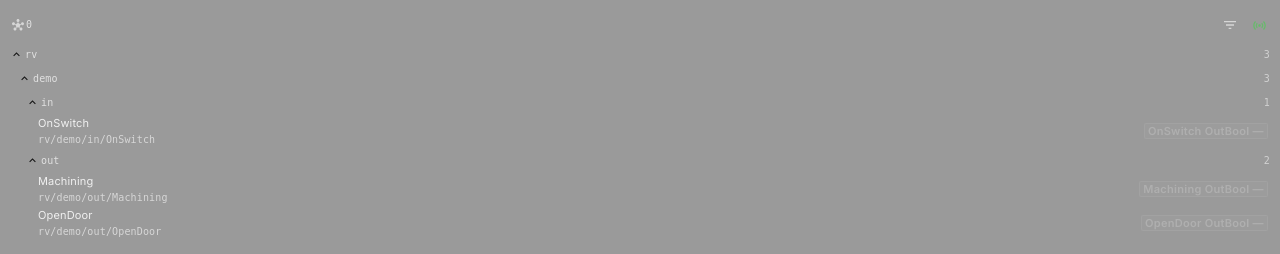
Test: SignalListView MQTT topic tree › collapses a single level without touching its siblings
Expected: the text "OpenDoor" is shown, [38,208,92,222]
Click the element showing "out 2" at (32, 160), box [26,154,1270,166]
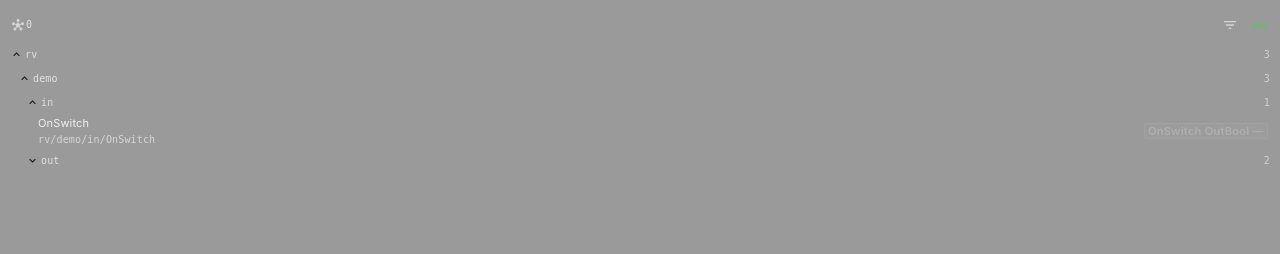
Expected: the text "OnSwitch" is shown, [38,116,89,130]
Expected: the text "OpenDoor" is gone
Expected: the text "Machining" is gone
